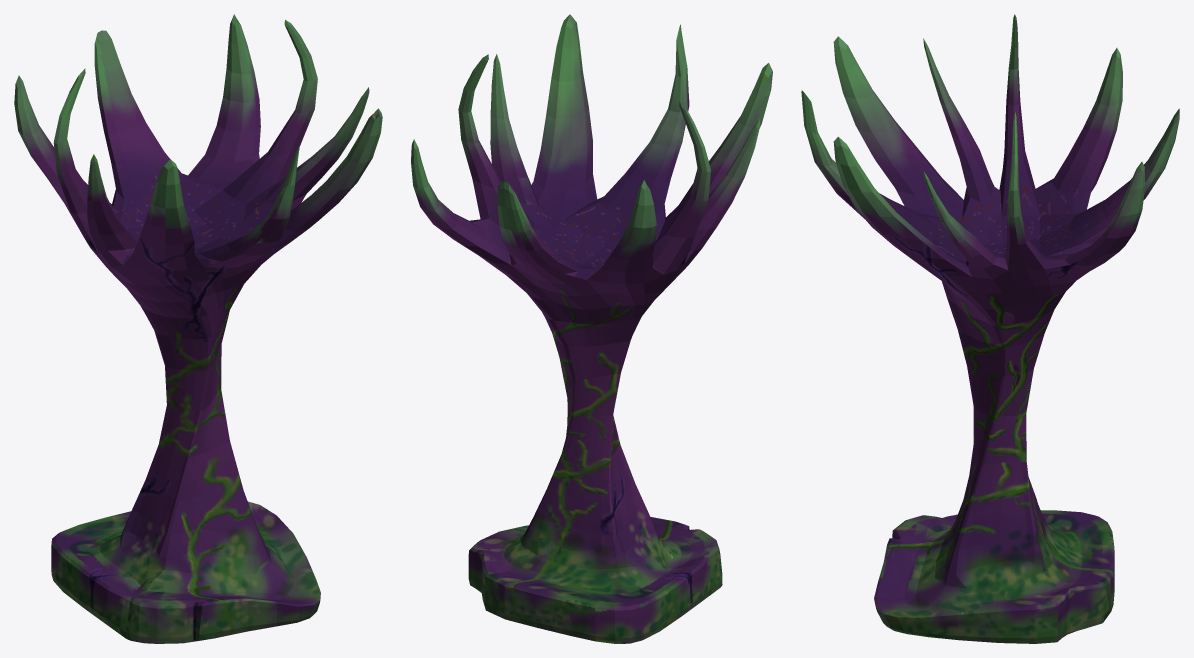
File: Pedestal.fbx
3 views of the same model, side by side, from view 1: azimuth 30°, elevation 25°; view 2: azimuth 150°, elevation 25°; view 3: azimuth 270°, elevation 25° (orthographic). The views are drawn at different scales.
Parts seen in each view (by area): view 1: Poste; view 2: Poste; view 3: Poste.
Boxes of the visible parts, x1,y1,x2,y2 form: Poste: [14, 14, 382, 643]; Poste: [411, 14, 772, 643]; Poste: [801, 14, 1179, 643].
Size of the model in its own units: 121 by 144 by 225.
